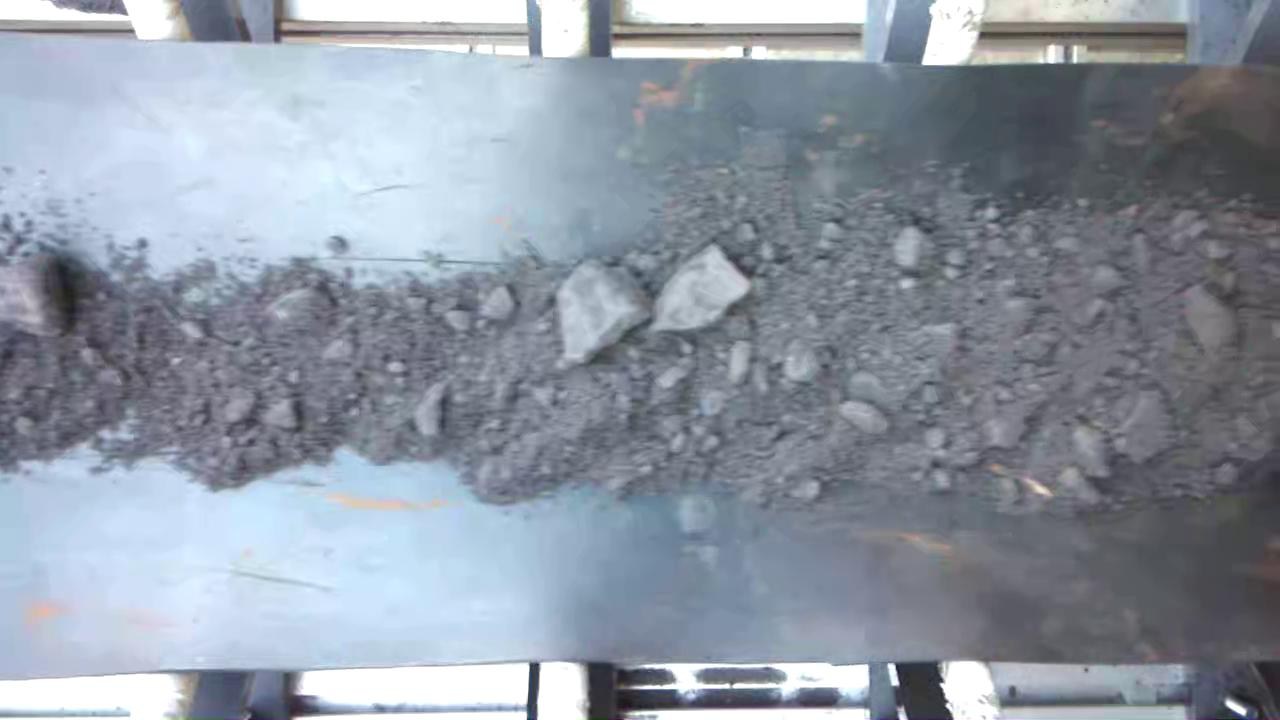conveyor: (1, 71, 1280, 661)
